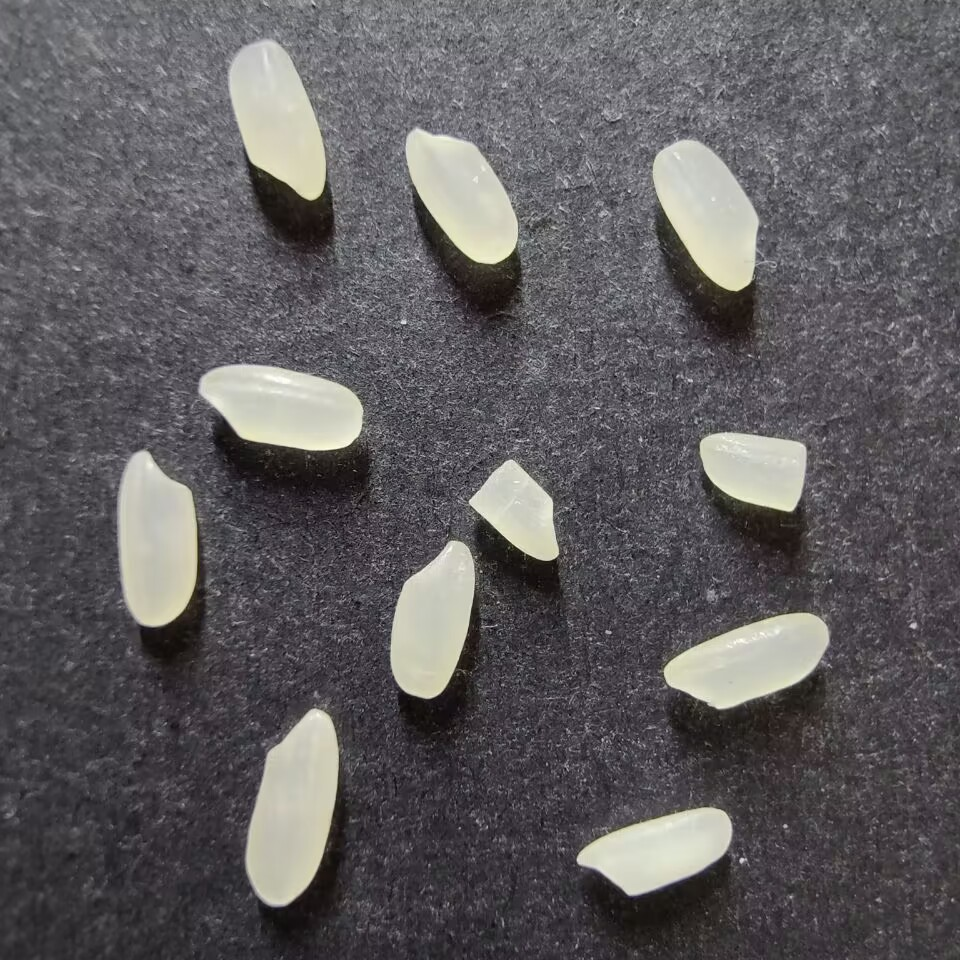broken: (467, 459, 560, 562), (698, 432, 807, 512)
rice: (244, 707, 338, 907), (651, 139, 760, 292), (663, 612, 829, 709), (227, 40, 326, 201), (404, 127, 518, 265), (116, 449, 198, 628), (197, 363, 363, 450), (388, 539, 476, 699), (575, 807, 732, 896)
